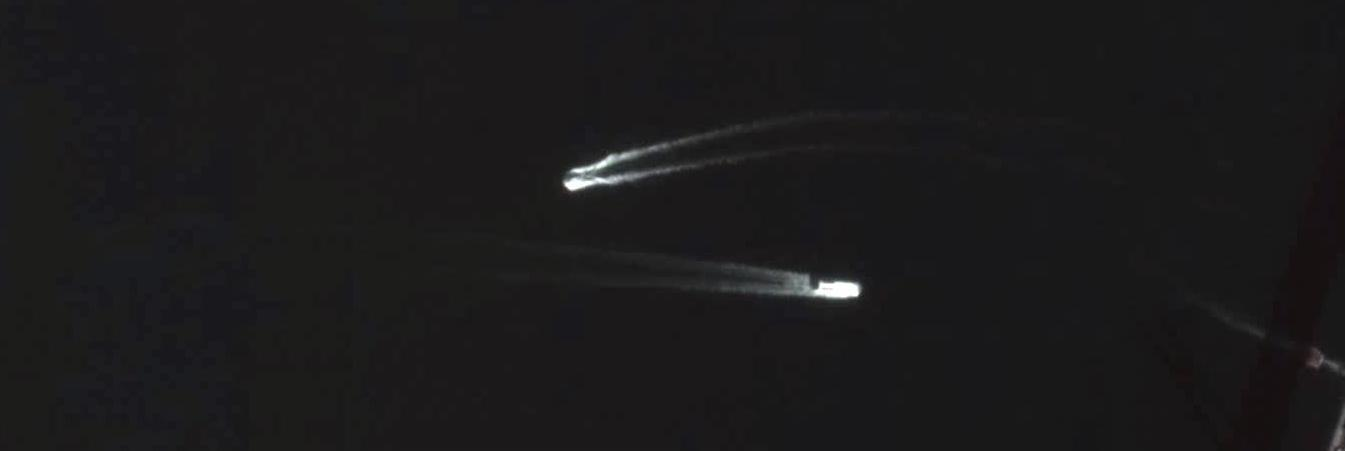person: (818, 280, 860, 299), (561, 171, 581, 181)
